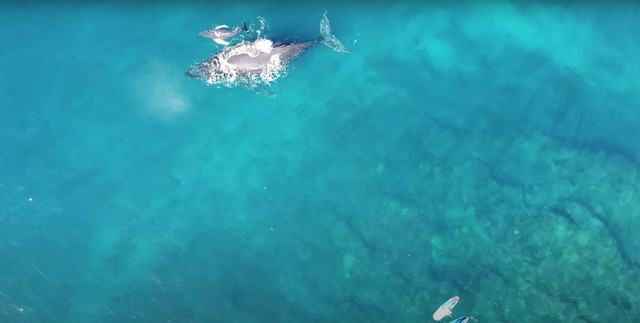whale: (180, 7, 355, 100), (193, 20, 254, 50)
